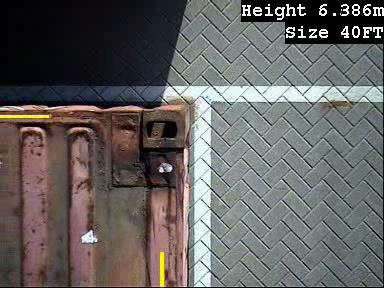groundmarker_2: (191, 144, 233, 235)
